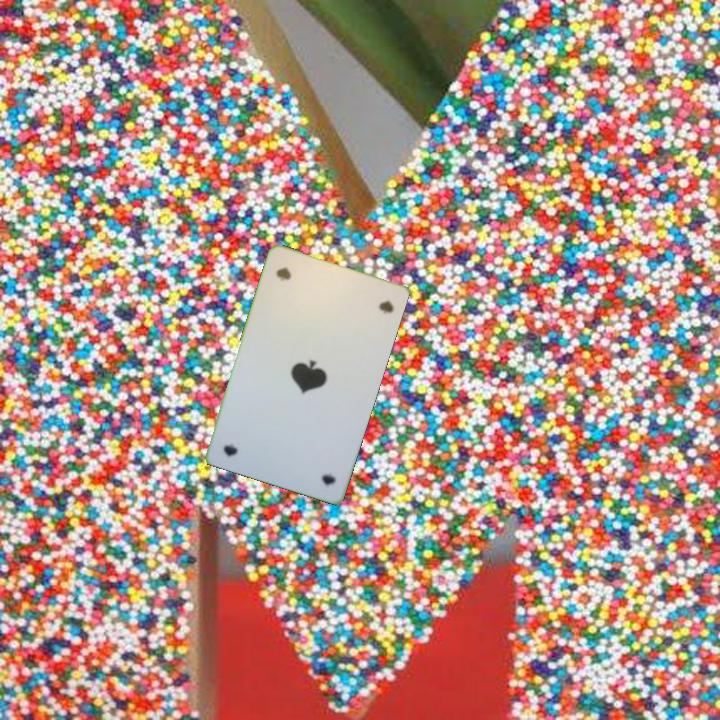s_a.png: (260, 254, 340, 329), (272, 419, 352, 493)
